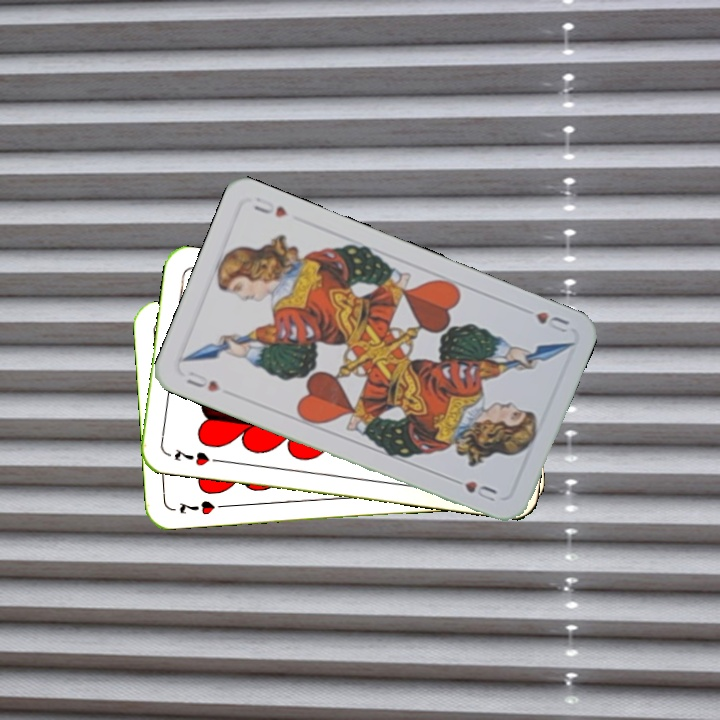H7: (170, 444, 224, 469), (175, 496, 229, 518)
HU: (181, 367, 223, 395), (532, 307, 572, 335)
